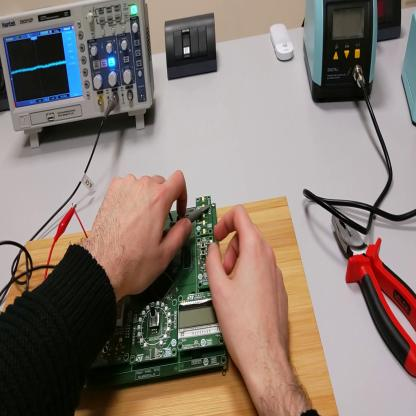hand: (207, 206, 292, 378), (89, 169, 191, 301)
low voltage board: (77, 192, 225, 391)
oscilloscope: (2, 2, 158, 146)
oscilloscope probe tip: (188, 206, 210, 223)
pliers: (335, 204, 416, 378)
socket: (378, 3, 403, 44), (3, 64, 11, 113)
welder base: (403, 14, 416, 131)
welder station: (305, 1, 379, 106)
working area: (2, 190, 339, 415)
